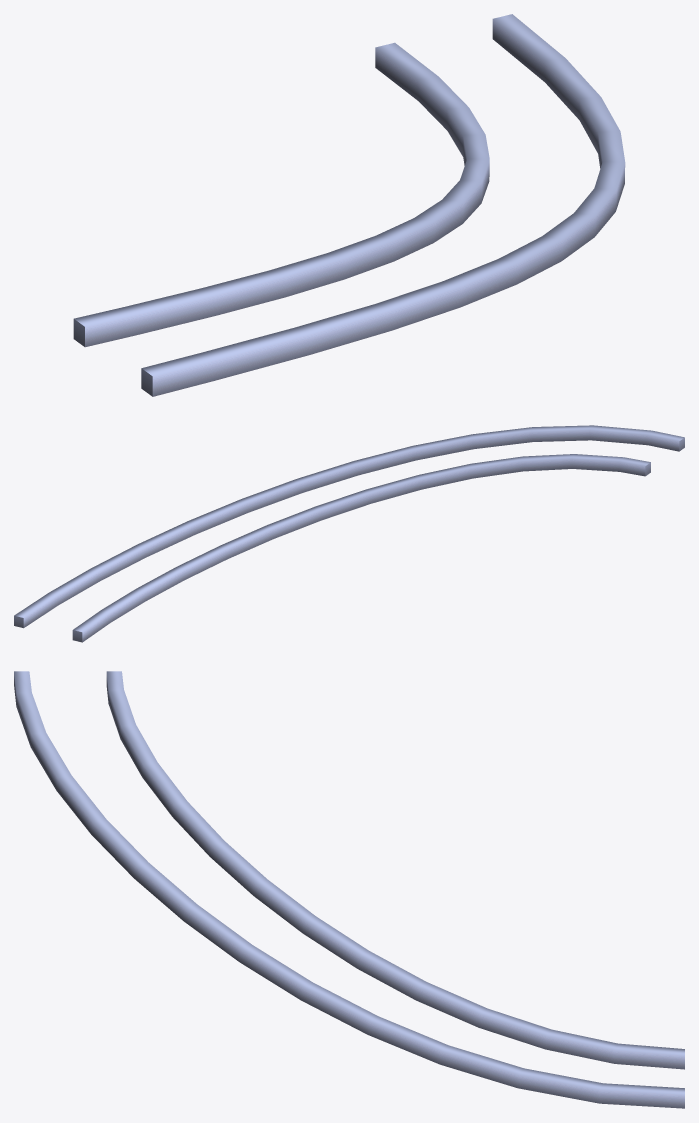
Rendered from kenney-train-railroad-rail-corner-large-ramp.glb.
3 views of the same model, one above another, from view 1: azimuth 30°, elevation 25°; view 2: azimuth 150°, elevation 25°; view 3: azimuth 270°, elevation 25° (orthographic). The views are drawn at different scales.
Parts seen in each view (by area): view 1: railroad-rail-corner-large-ramp; view 2: railroad-rail-corner-large-ramp; view 3: railroad-rail-corner-large-ramp.
Part boxes in pixels (x1,y1,x2,y2): railroad-rail-corner-large-ramp: (73,14,625,396); railroad-rail-corner-large-ramp: (14,425,684,642); railroad-rail-corner-large-ramp: (14,671,684,1108).
Bounding box in the file's own units: 4.35 × 1.1 × 4.35.
1 material, 1 textured.
